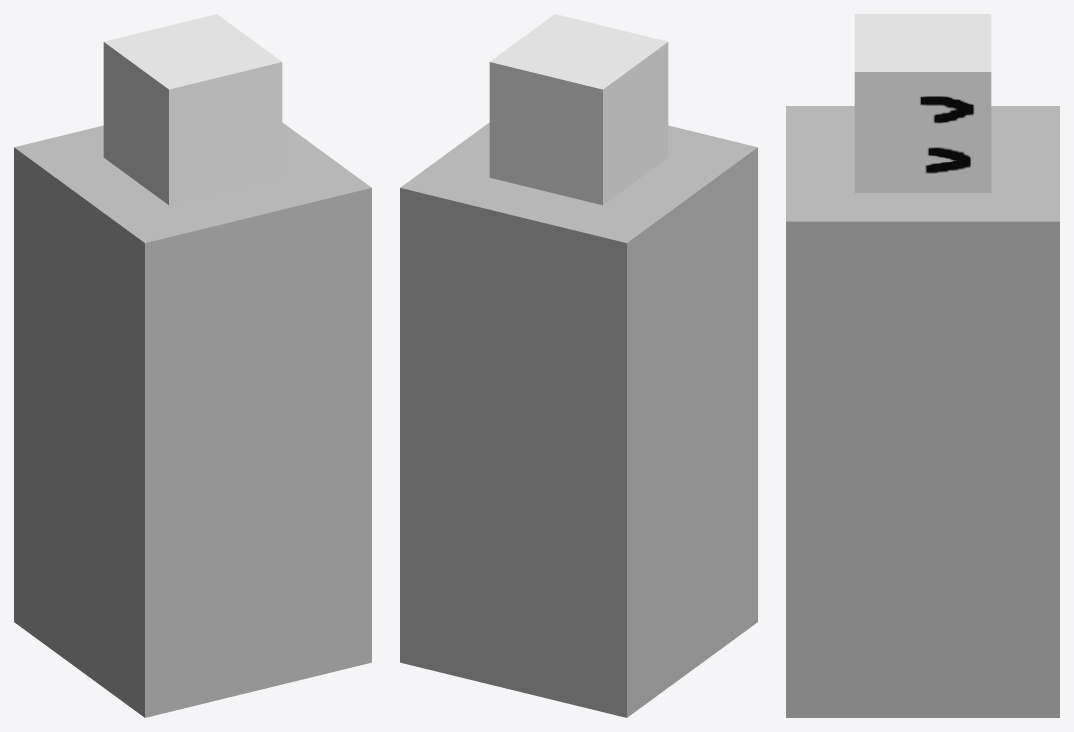
Rendered from bossBody.obj.
3 views of the same model, side by side, from view 1: azimuth 30°, elevation 25°; view 2: azimuth 150°, elevation 25°; view 3: azimuth 270°, elevation 25° (orthographic). The views are drawn at different scales.
Parts seen in each view (by area): view 1: Cube; view 2: Cube; view 3: Cube.
Boxes of the visible parts, box(x1,y1,x2,y2) form: Cube: box(14, 14, 371, 717); Cube: box(400, 14, 757, 717); Cube: box(786, 14, 1059, 717).
Bounding box in the file's own units: 2 × 4.98 × 2.
